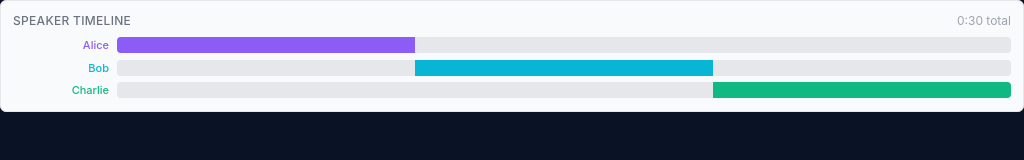
Test case: SpeakerTimeline include filter › clicking a speaker shows only that speaker's bars
Click the button "Alice" at (61, 45), box [13,37,109,54]
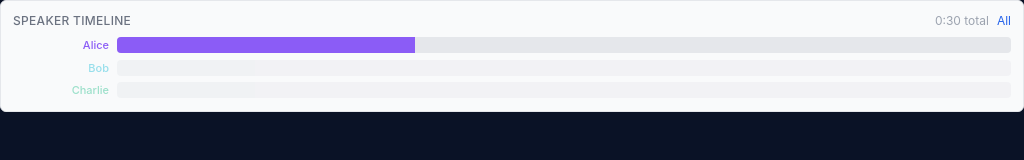
Expected: the button titled "Alice: 0:00 → 0:10" is shown, [117,37,415,53]
Result: the button "All" is shown at [997,13,1011,29]
